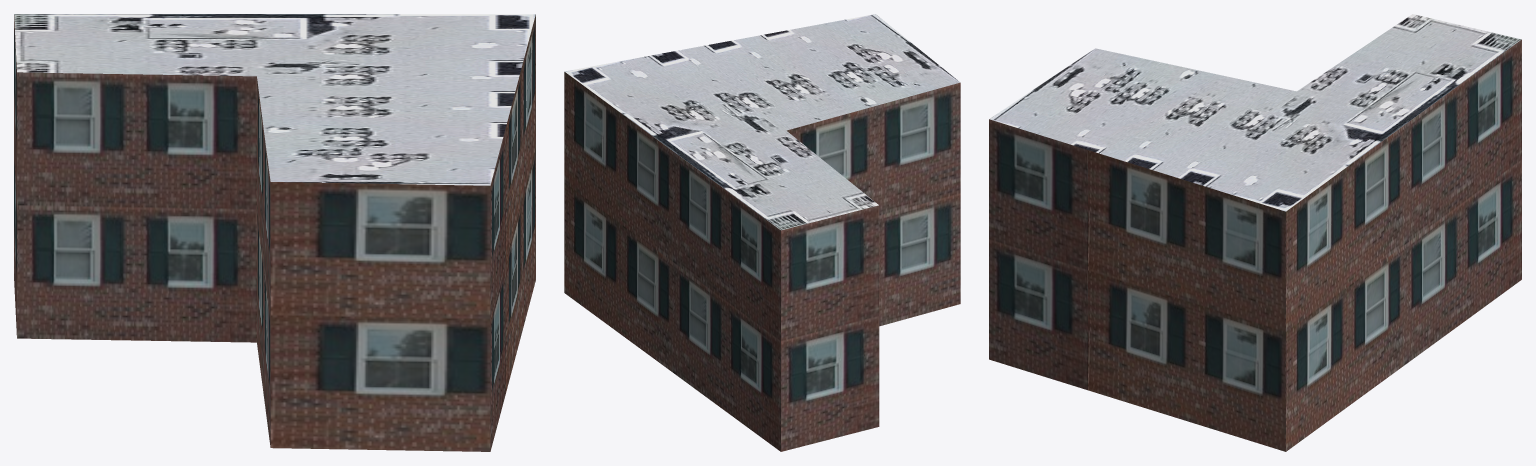
File: ResTex__1240.fbx
3 renders of one model, left to right at view 1: azimuth 30°, elevation 25°; view 2: azimuth 150°, elevation 25°; view 3: azimuth 270°, elevation 25°, orthographic. The views are drawn at different scales.
Parts seen in each view (by area): view 1: CityEngineMaterial_14_m, CityEngineMaterial_m; view 2: CityEngineMaterial_14_m, CityEngineMaterial_m; view 3: CityEngineMaterial_14_m, CityEngineMaterial_m.
Part boxes in pixels (bbox=[...]): CityEngineMaterial_14_m: bbox=[14, 14, 535, 451]; CityEngineMaterial_m: bbox=[14, 14, 535, 185]; CityEngineMaterial_14_m: bbox=[564, 72, 960, 451]; CityEngineMaterial_m: bbox=[564, 14, 960, 230]; CityEngineMaterial_14_m: bbox=[989, 39, 1521, 451]; CityEngineMaterial_m: bbox=[989, 14, 1521, 211].
Bounding box in the file's own units: 10.58 × 6 × 12.06.
2 materials, 2 textured.
